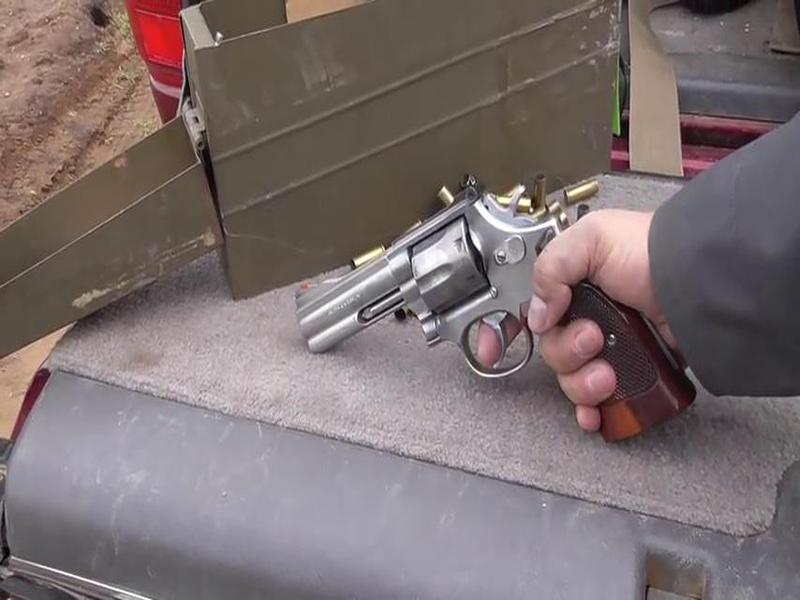Revolver: (291, 182, 629, 448)
